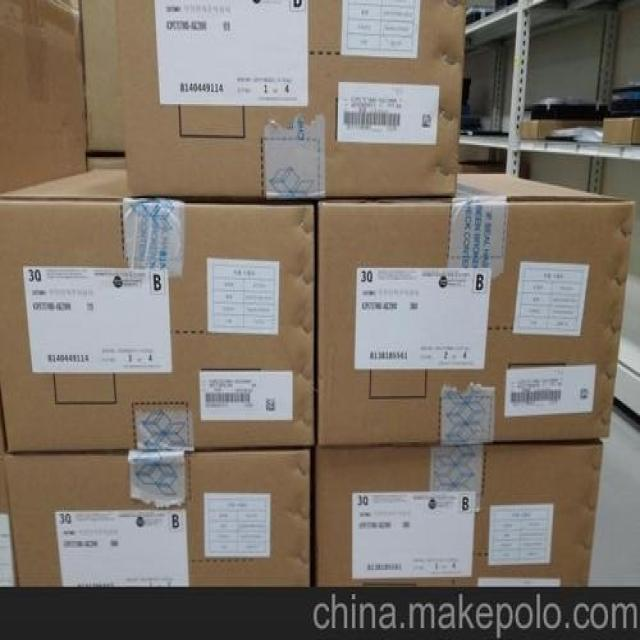box: (0, 154, 316, 452), (316, 172, 637, 449), (115, 0, 467, 198), (316, 437, 604, 587), (6, 447, 311, 587), (79, 0, 125, 155), (0, 398, 17, 587), (520, 119, 598, 140), (602, 118, 639, 143)
